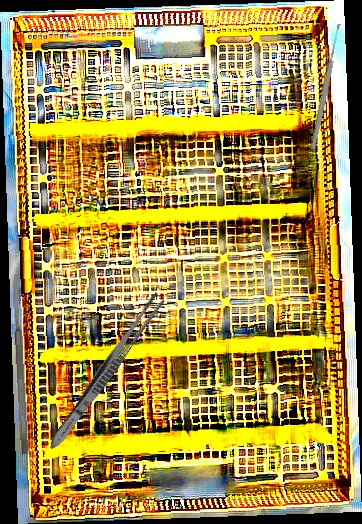Dressing Forceps: (44, 288, 168, 455)
Spatula Surgical: (10, 273, 31, 455)
Surgical Spoon: (309, 23, 343, 150)
